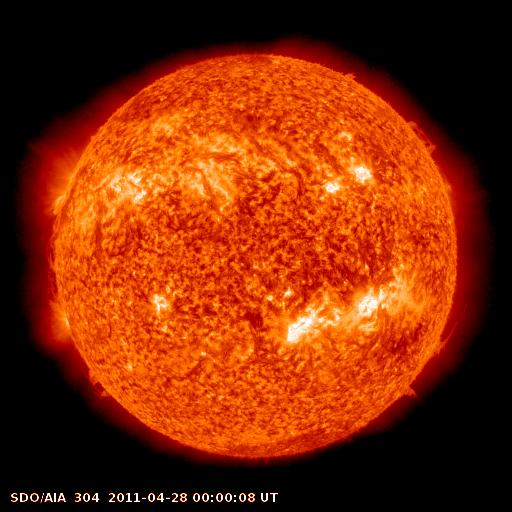prominence: (36, 213, 78, 308), (431, 284, 481, 360), (402, 112, 441, 156), (80, 363, 120, 404), (392, 373, 428, 412), (339, 59, 367, 89)
